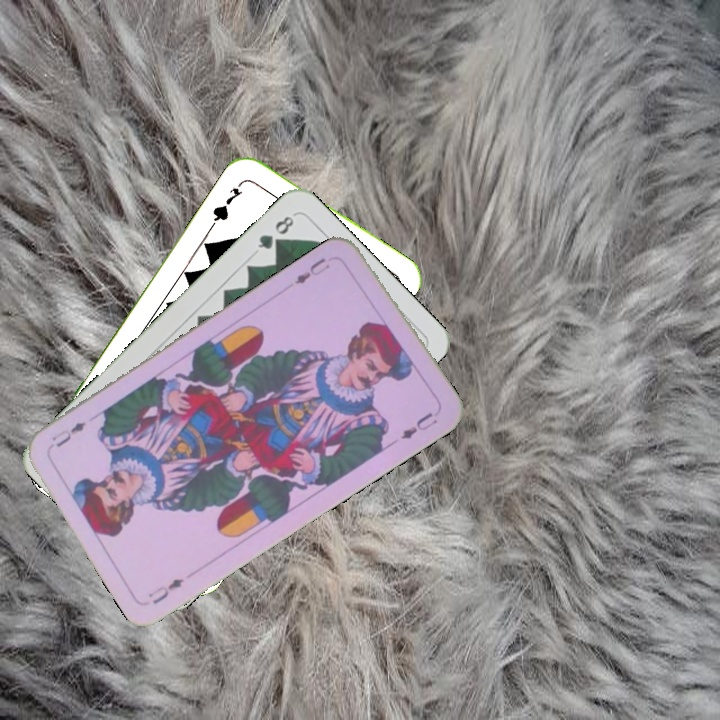EU: (290, 253, 333, 287), (144, 574, 187, 607)
G7: (208, 176, 248, 228)
G8: (253, 211, 298, 252)
